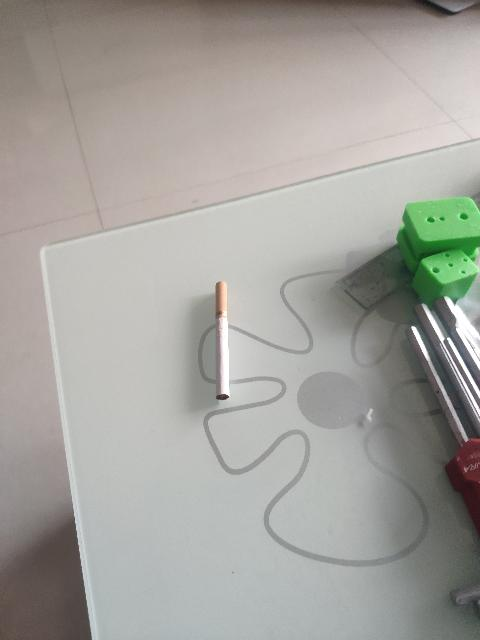Cigarette: (216, 282, 232, 401)
